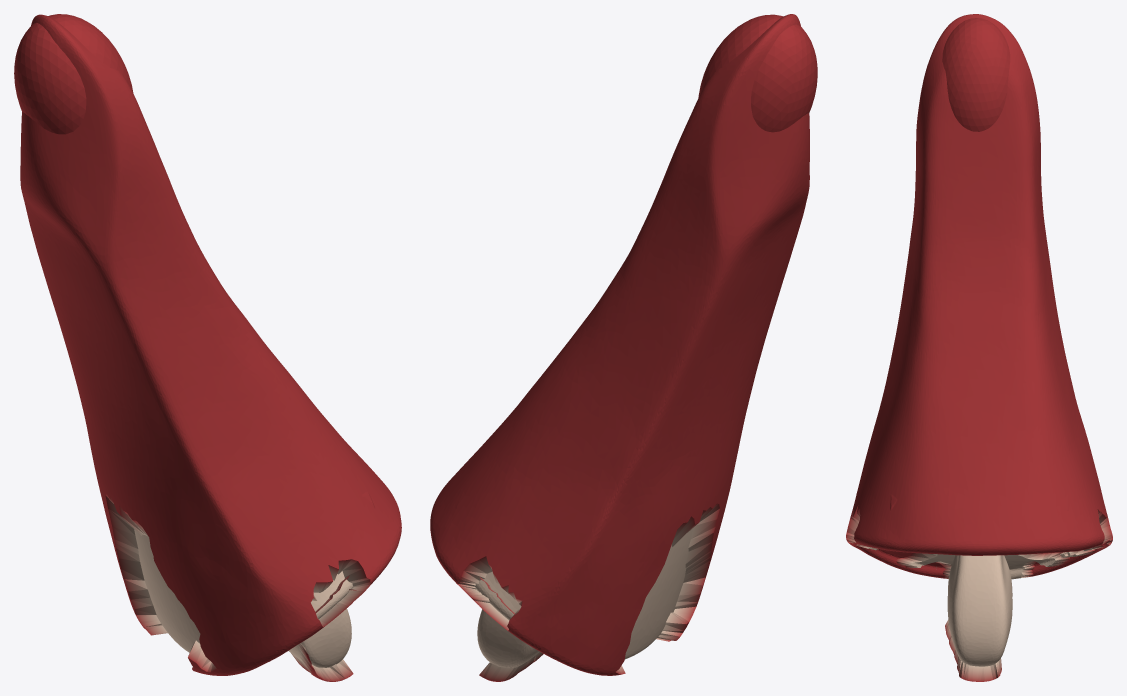
Rendered from arm_L.glb.
The picture shows the model from 3 angles, left to right: view 1: azimuth 30°, elevation 25°; view 2: azimuth 150°, elevation 25°; view 3: azimuth 270°, elevation 25°; orthographic projection. The views are drawn at different scales.
Parts seen in each view (by area): view 1: geometry_0; view 2: geometry_0; view 3: geometry_0.
Boxes of the visible parts, left/top/right/bottom form: geometry_0: left=14, top=14, right=401, bottom=681; geometry_0: left=430, top=14, right=817, bottom=681; geometry_0: left=846, top=14, right=1112, bottom=681.
Size of the model in its own units: 0.3301 by 0.6526 by 0.2821.
